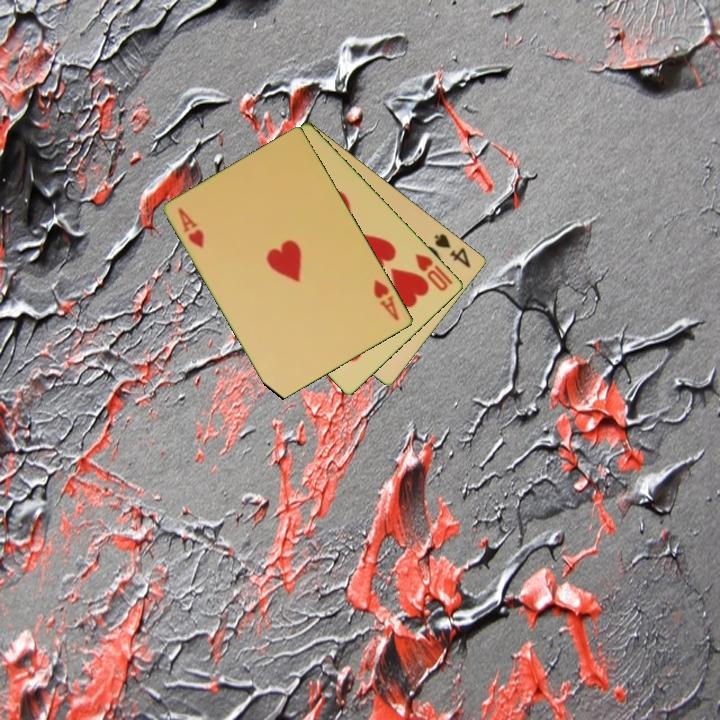10h: (411, 250, 451, 294)
4s: (431, 230, 474, 271)
Ah: (370, 276, 403, 324), (175, 204, 207, 251)
